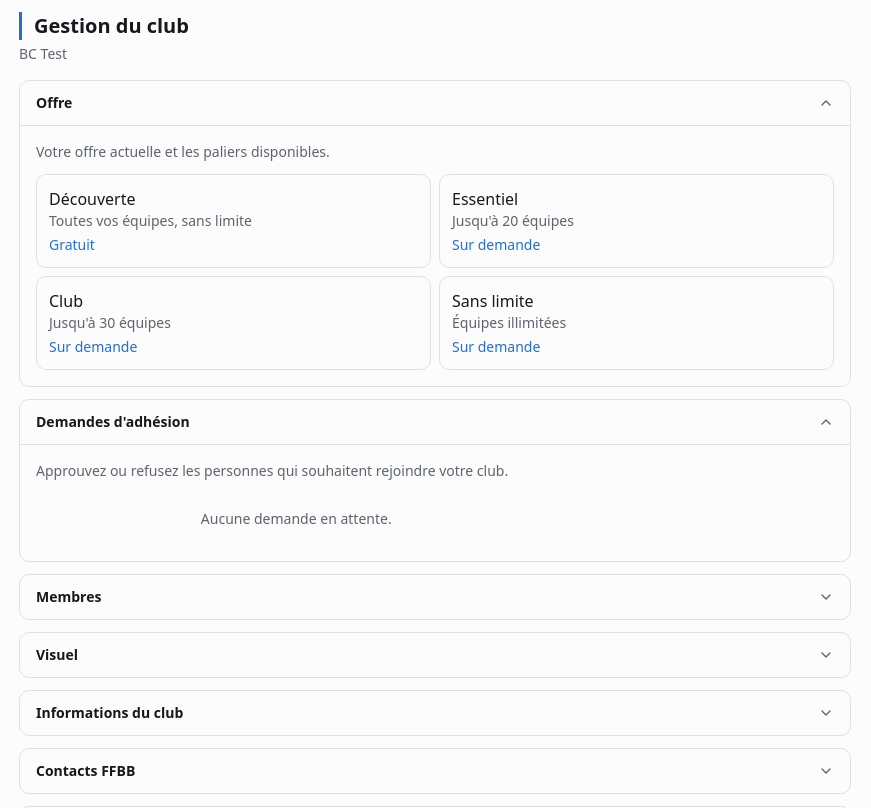
Scenario: ClubPage › shows the Membres section for management (expand → active member list)
Click the button "Membres": (69, 596) [20, 575, 850, 619]
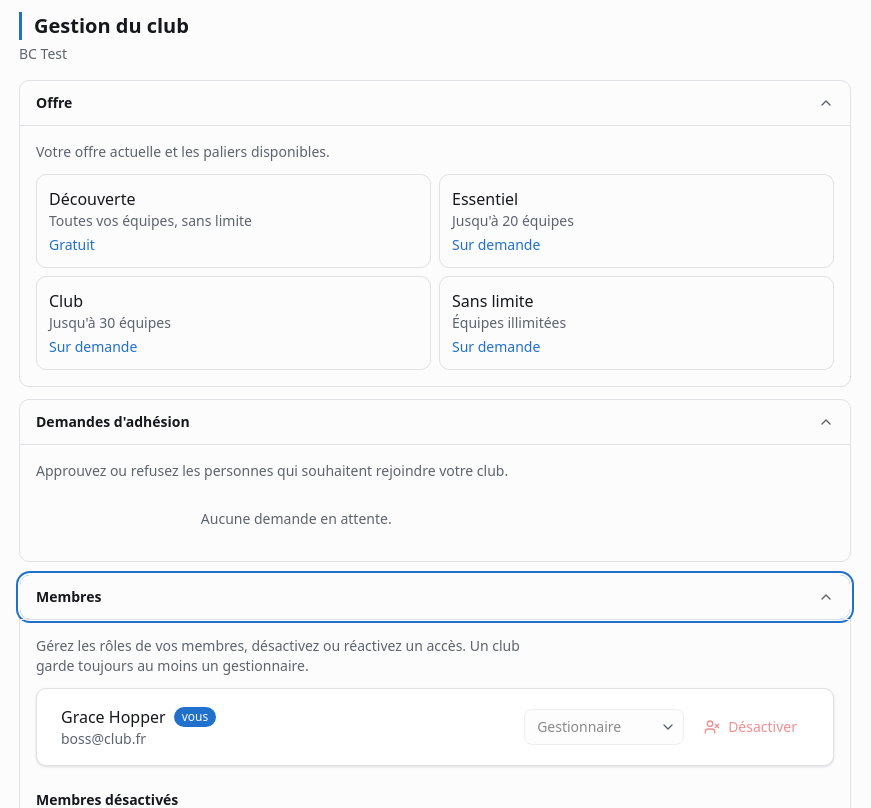
Check: the text "Grace Hopper" is shown, box [61, 705, 216, 729]
Check: the text "vous" is shown, box [174, 707, 216, 727]
